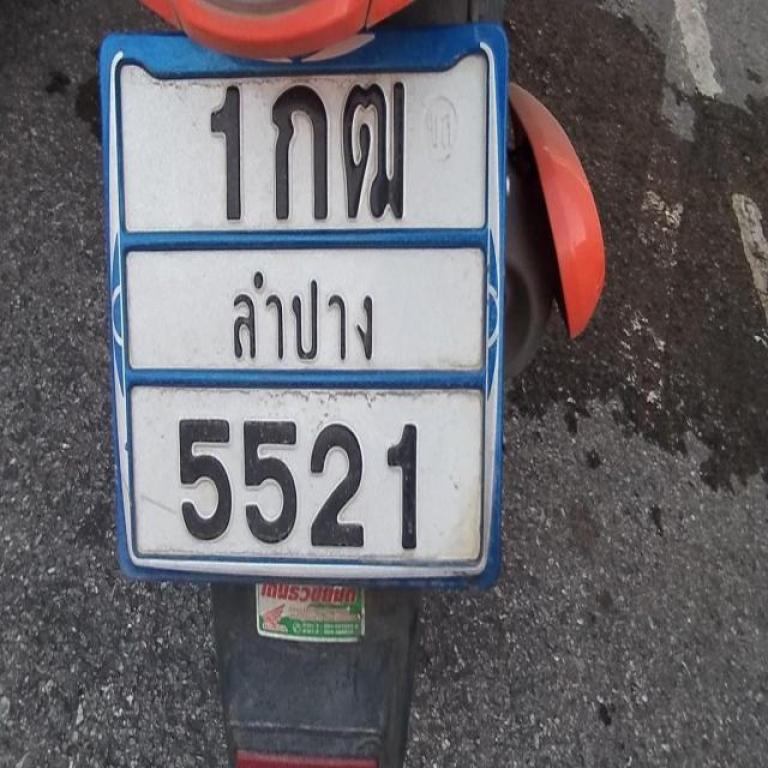license plate: (101, 25, 506, 587)
